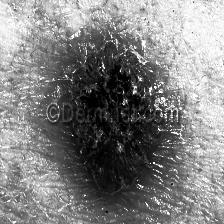Benign Marking or Mole: (57, 36, 172, 197)
